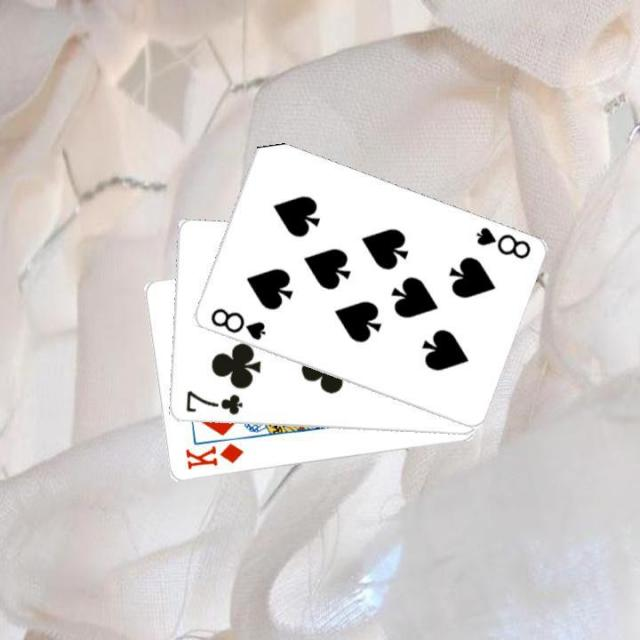7C: (182, 387, 244, 417)
8S: (206, 304, 268, 342), (471, 223, 533, 261)
KD: (180, 439, 246, 471)
